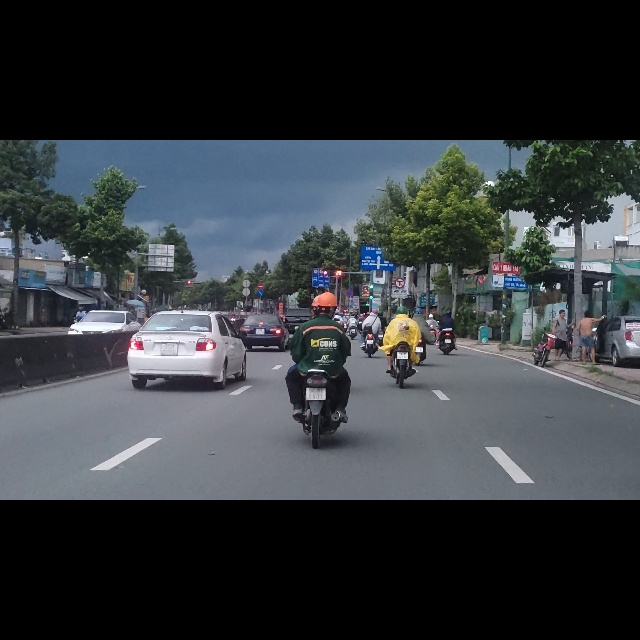bien_cam: (312, 237, 330, 261), (395, 245, 405, 264), (257, 267, 263, 277), (258, 256, 264, 265)
